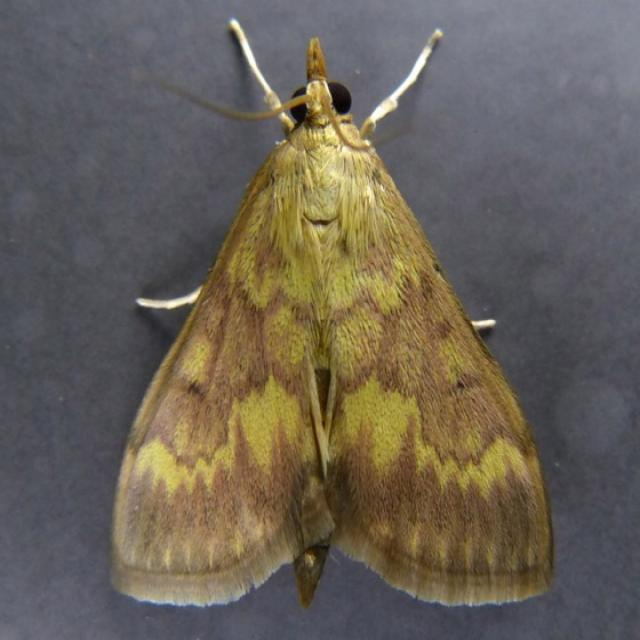cornborer-Adult-: (65, 11, 572, 626)
